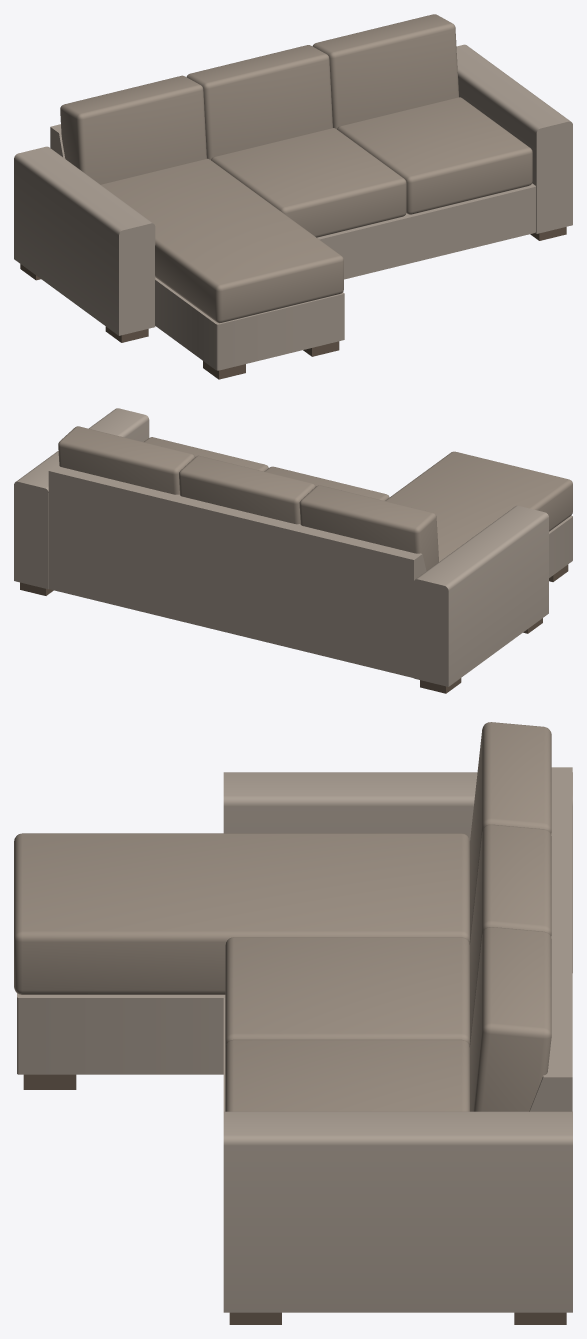
The model's file is Sofa4_C2.fbx.
The picture shows the model from 3 angles, top to bottom: view 1: azimuth 30°, elevation 25°; view 2: azimuth 150°, elevation 25°; view 3: azimuth 270°, elevation 25°; orthographic projection. The views are drawn at different scales.
Visible parts, largest first — view 1: Sofa4_C2; view 2: Sofa4_C2; view 3: Sofa4_C2.
Part boxes in pixels (bbox=[...]): Sofa4_C2: bbox=[14, 14, 572, 379]; Sofa4_C2: bbox=[14, 408, 572, 693]; Sofa4_C2: bbox=[14, 722, 572, 1324].
Bounding box in the file's own units: 250 × 85.61 × 160.
